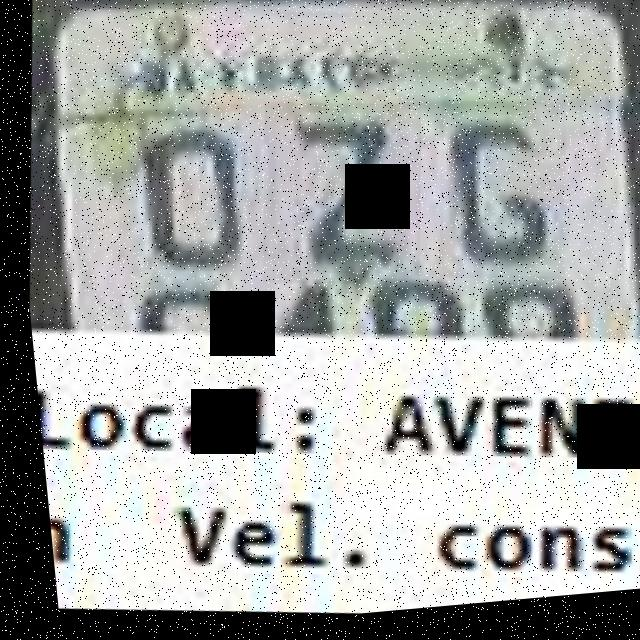7: (499, 508, 628, 608)
9: (417, 497, 549, 614)
G: (419, 99, 576, 297)
O: (98, 94, 287, 306)
Z: (242, 96, 431, 303)
